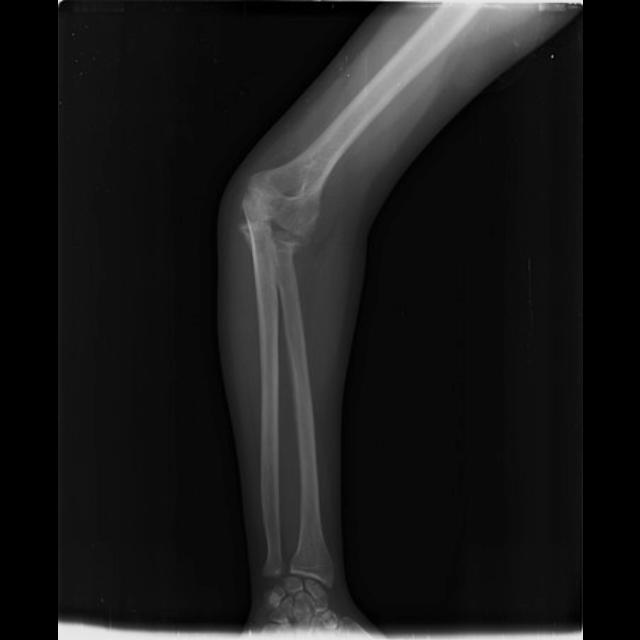fractured: (232, 181, 314, 261)
